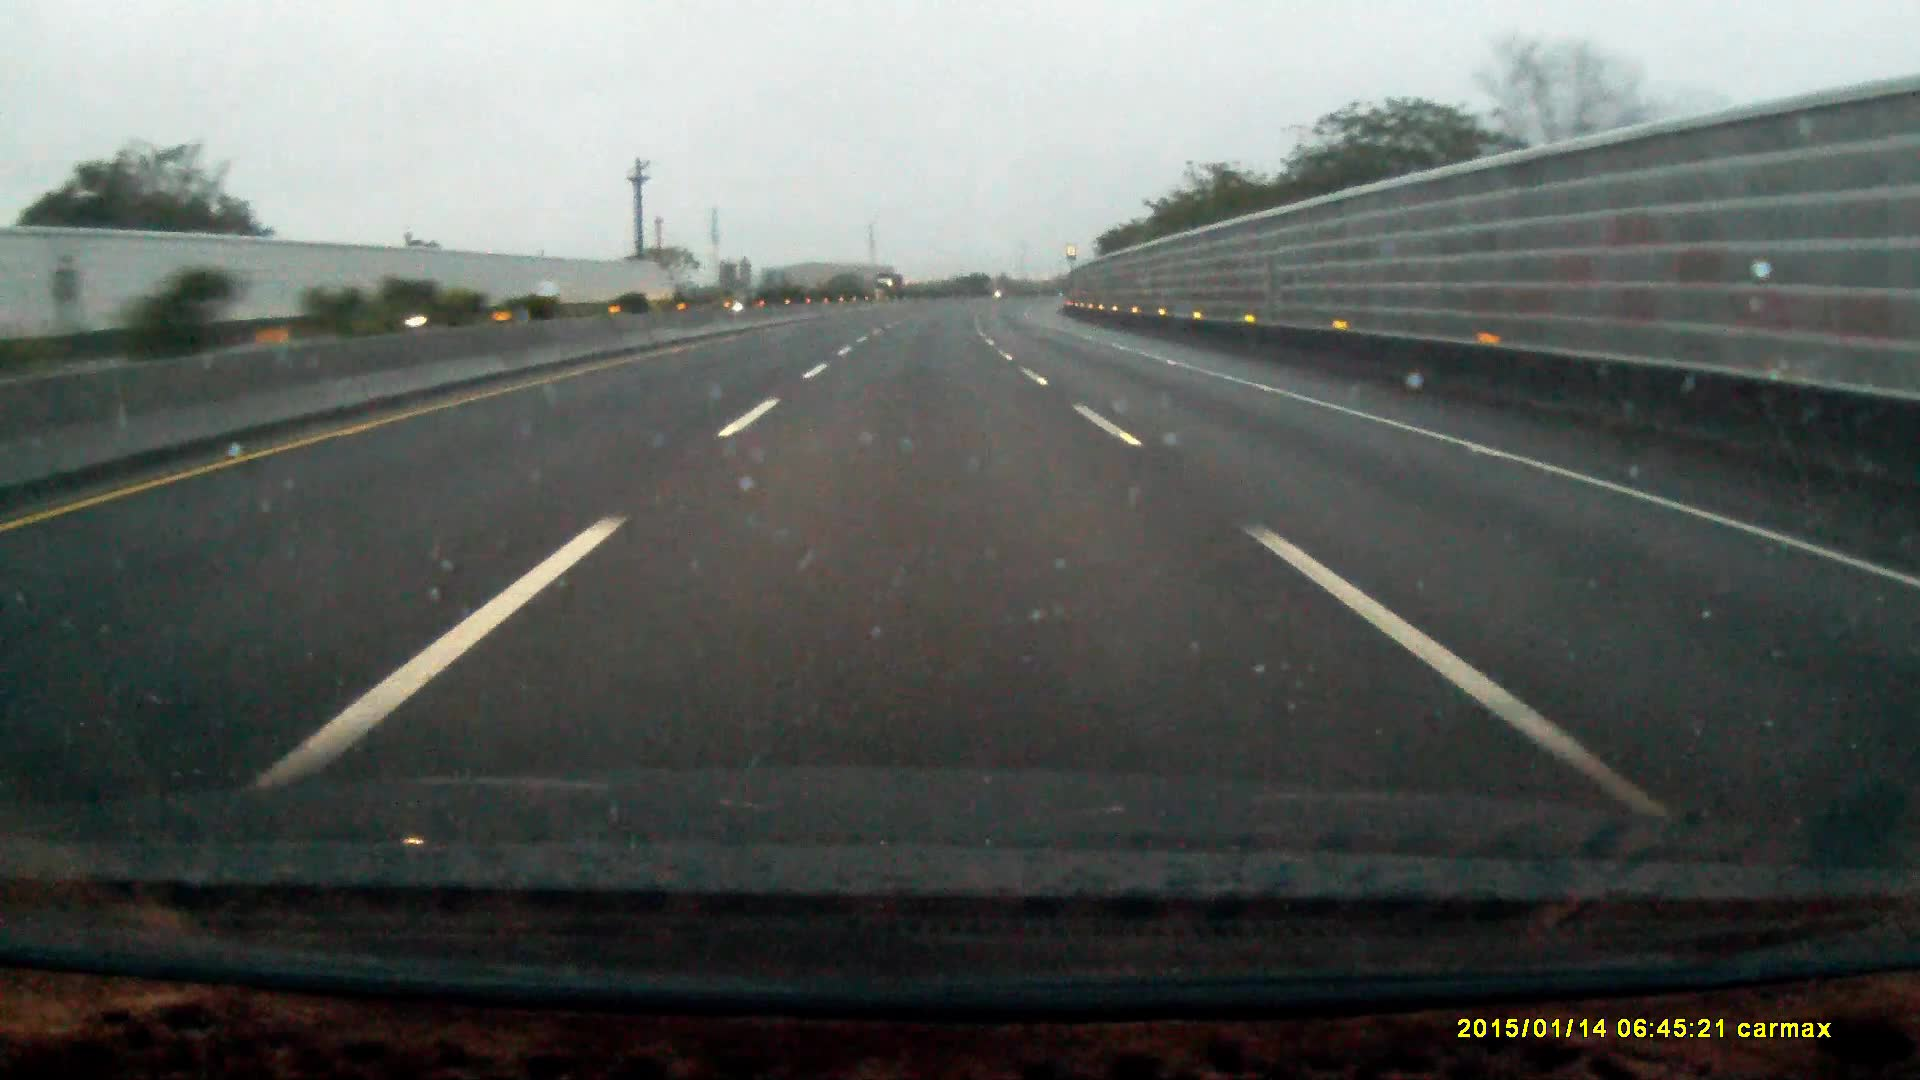vehicle: (877, 274, 905, 301)
